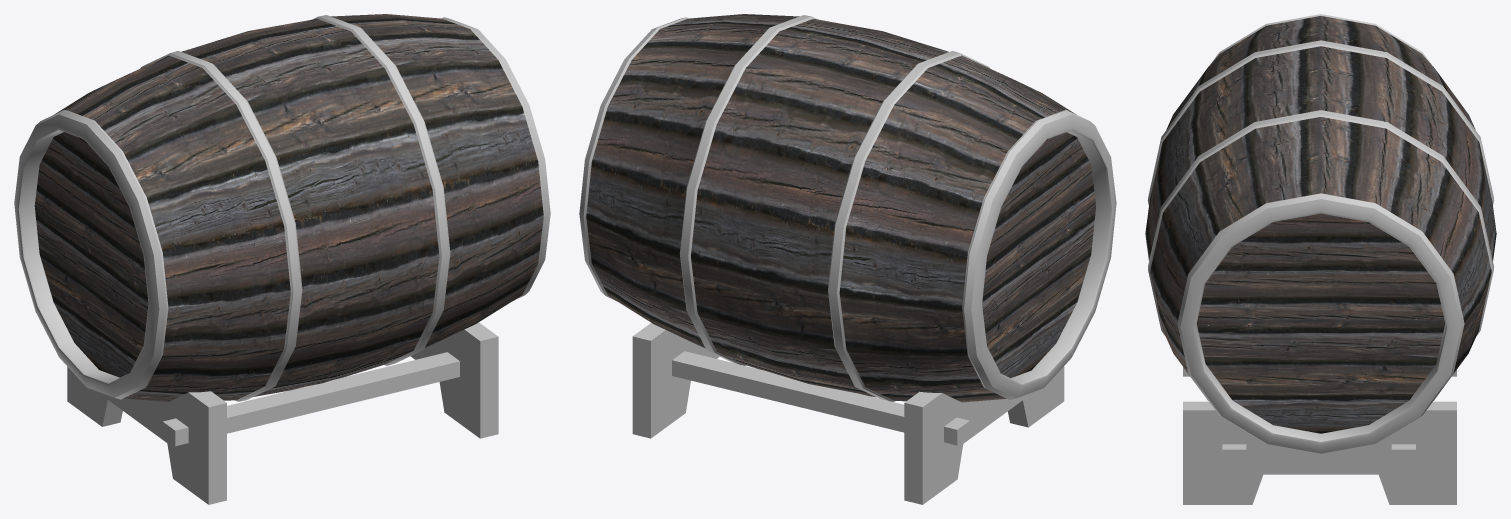
Rendered from v-barrel.fbx.
The picture shows the model from 3 angles, left to right: view 1: azimuth 30°, elevation 25°; view 2: azimuth 150°, elevation 25°; view 3: azimuth 270°, elevation 25°; orthographic projection. The views are drawn at different scales.
Visible parts, largest first — view 1: Mesh; view 2: Mesh; view 3: Mesh.
Boxes of the visible parts, bbox=[...] form: Mesh: bbox=[14, 14, 550, 504]; Mesh: bbox=[579, 14, 1116, 504]; Mesh: bbox=[1145, 14, 1496, 504].
Bounding box in the file's own units: 182 × 163 × 143.
